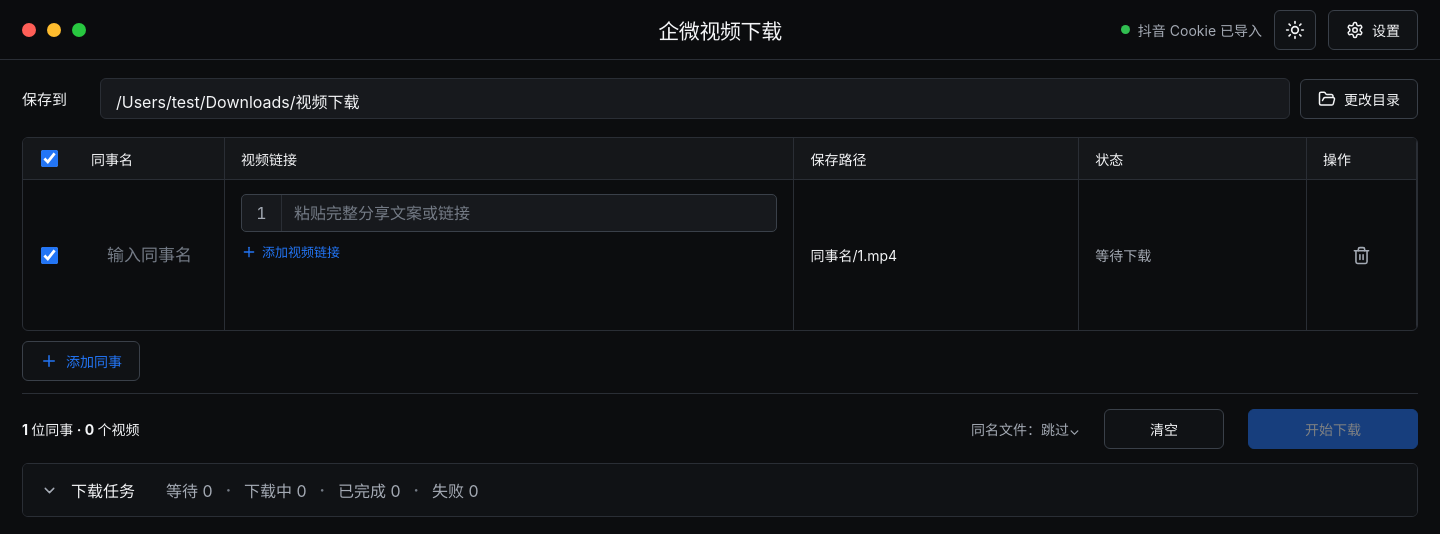
App › clears the current draft
expect the text "抖音 Cookie 已导入" is shown: met, box [1121,20,1262,40]
In the field labelled "同事名": (150, 255) [91,236,208,274], type "王五"
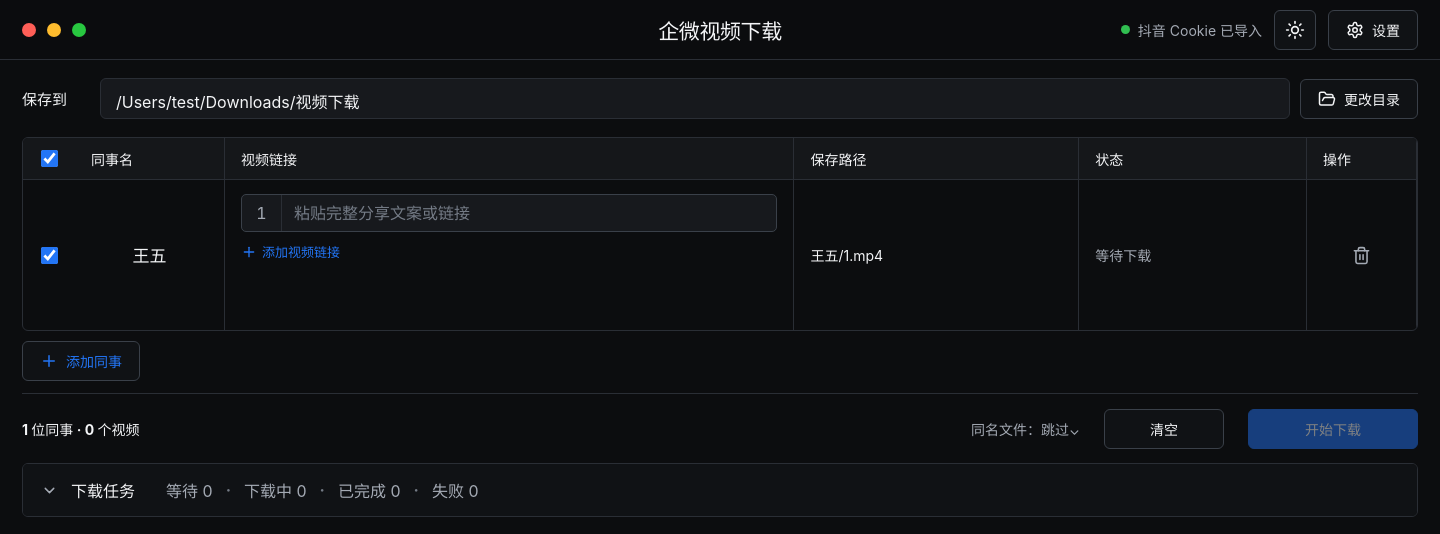
Click the button "清空": (1164, 428) [1104,408,1224,448]
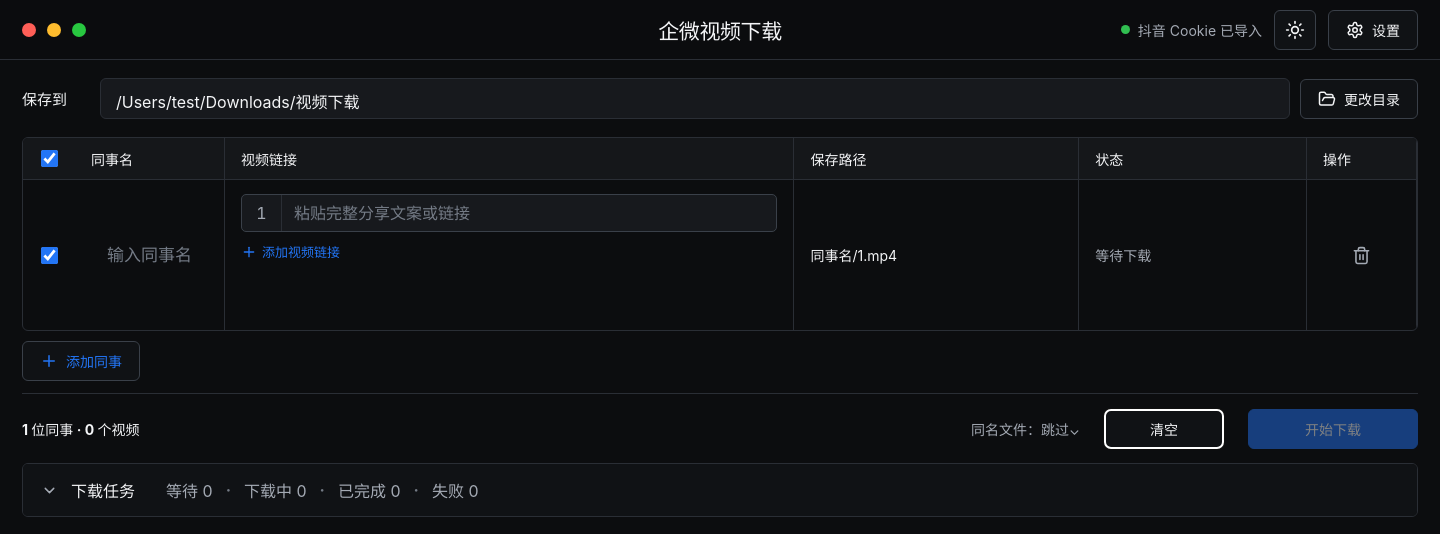
expect the field labelled "同事名" is empty: met, box [91,236,208,274]
